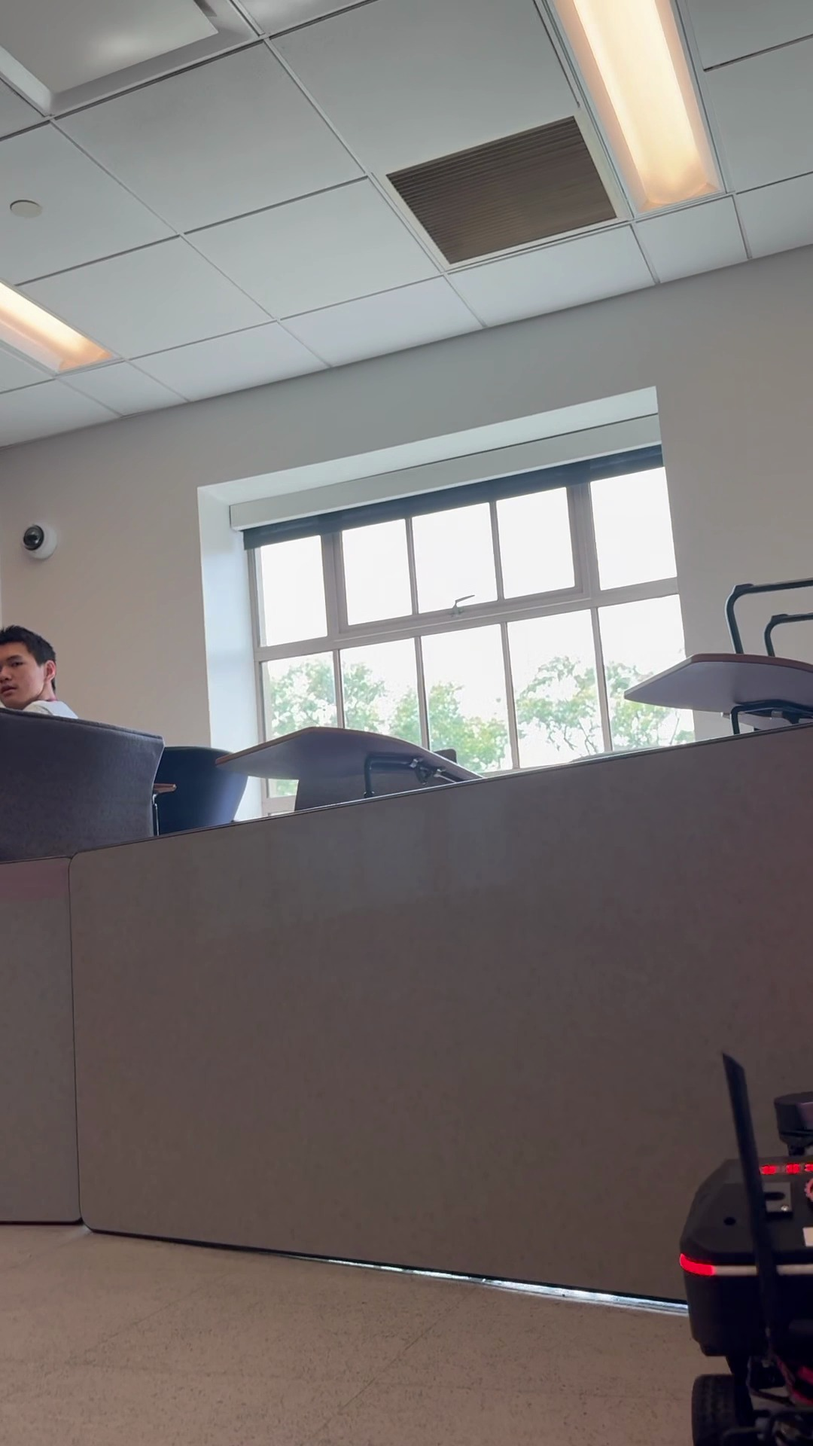racecar: (669, 1047, 813, 1445)
